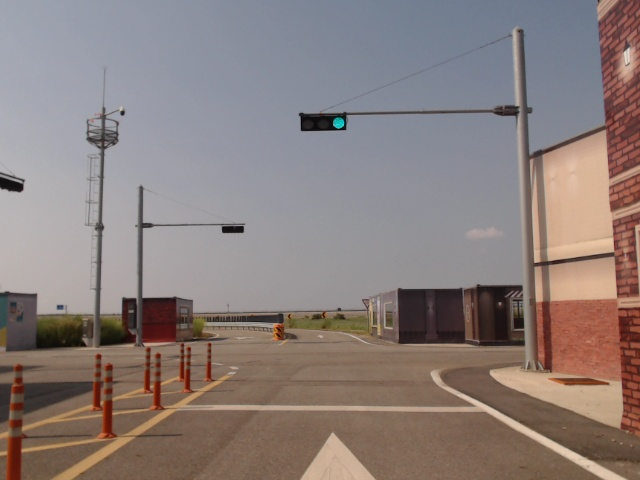green_3: (300, 114, 347, 131)
